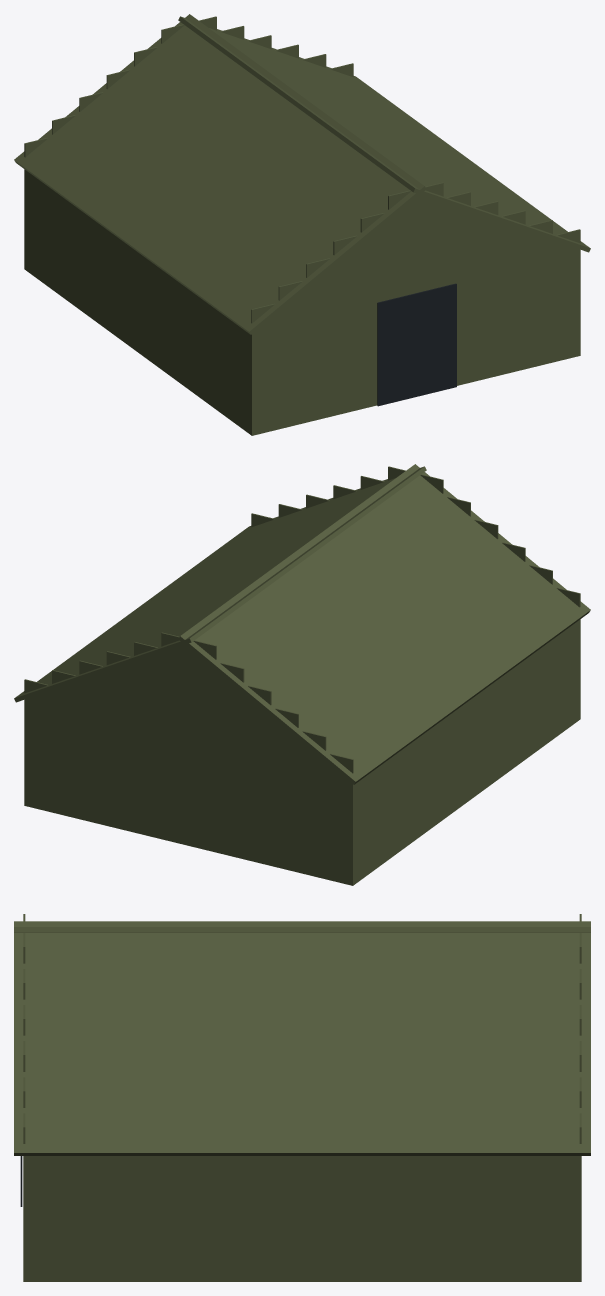
Rendered from ext_tent.glb.
3 renders of one model, top to bottom at view 1: azimuth 30°, elevation 25°; view 2: azimuth 150°, elevation 25°; view 3: azimuth 270°, elevation 25°, orthographic. The views are drawn at different scales.
Visible parts, largest first — view 1: ext_tent; view 2: ext_tent; view 3: ext_tent.
Part boxes in pixels (<box>): ext_tent: <box>14,14,590,435</box>; ext_tent: <box>14,464,590,885</box>; ext_tent: <box>14,914,590,1281</box>.
Size of what is drawn, in the model's own units: 5.2 by 3.08 by 6.2.
